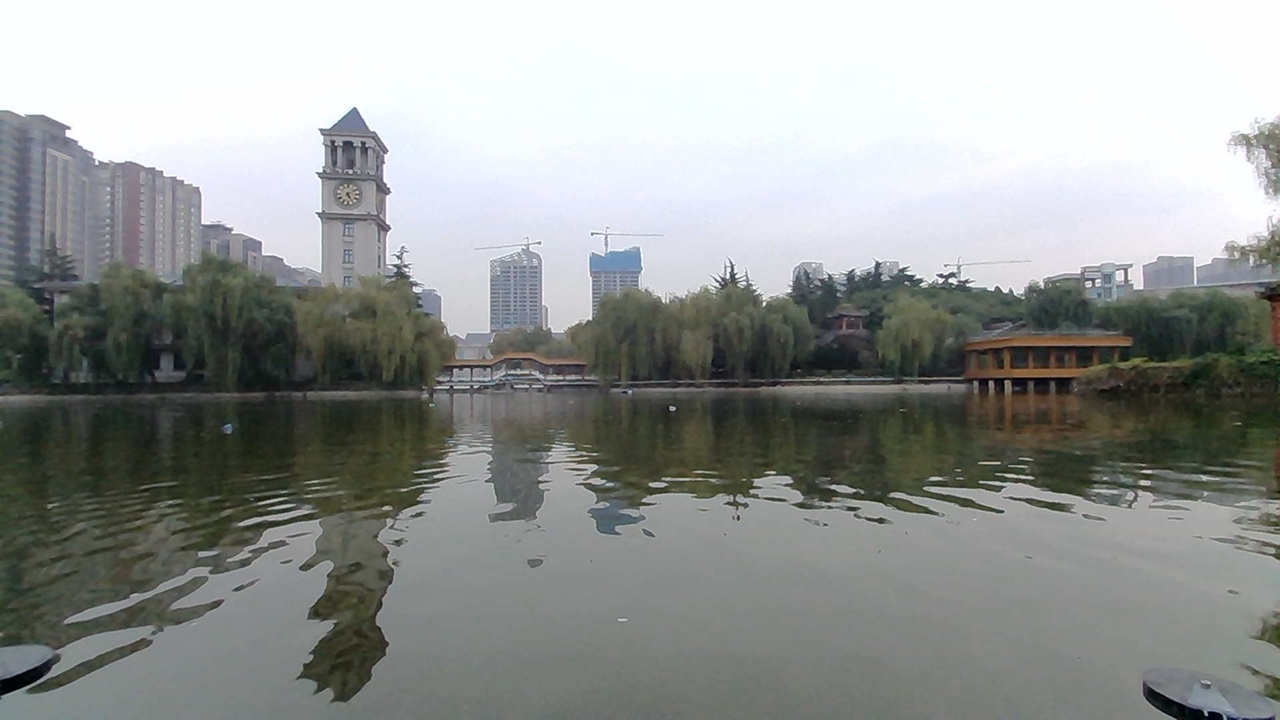bottle: (212, 417, 246, 439), (659, 396, 695, 415)
